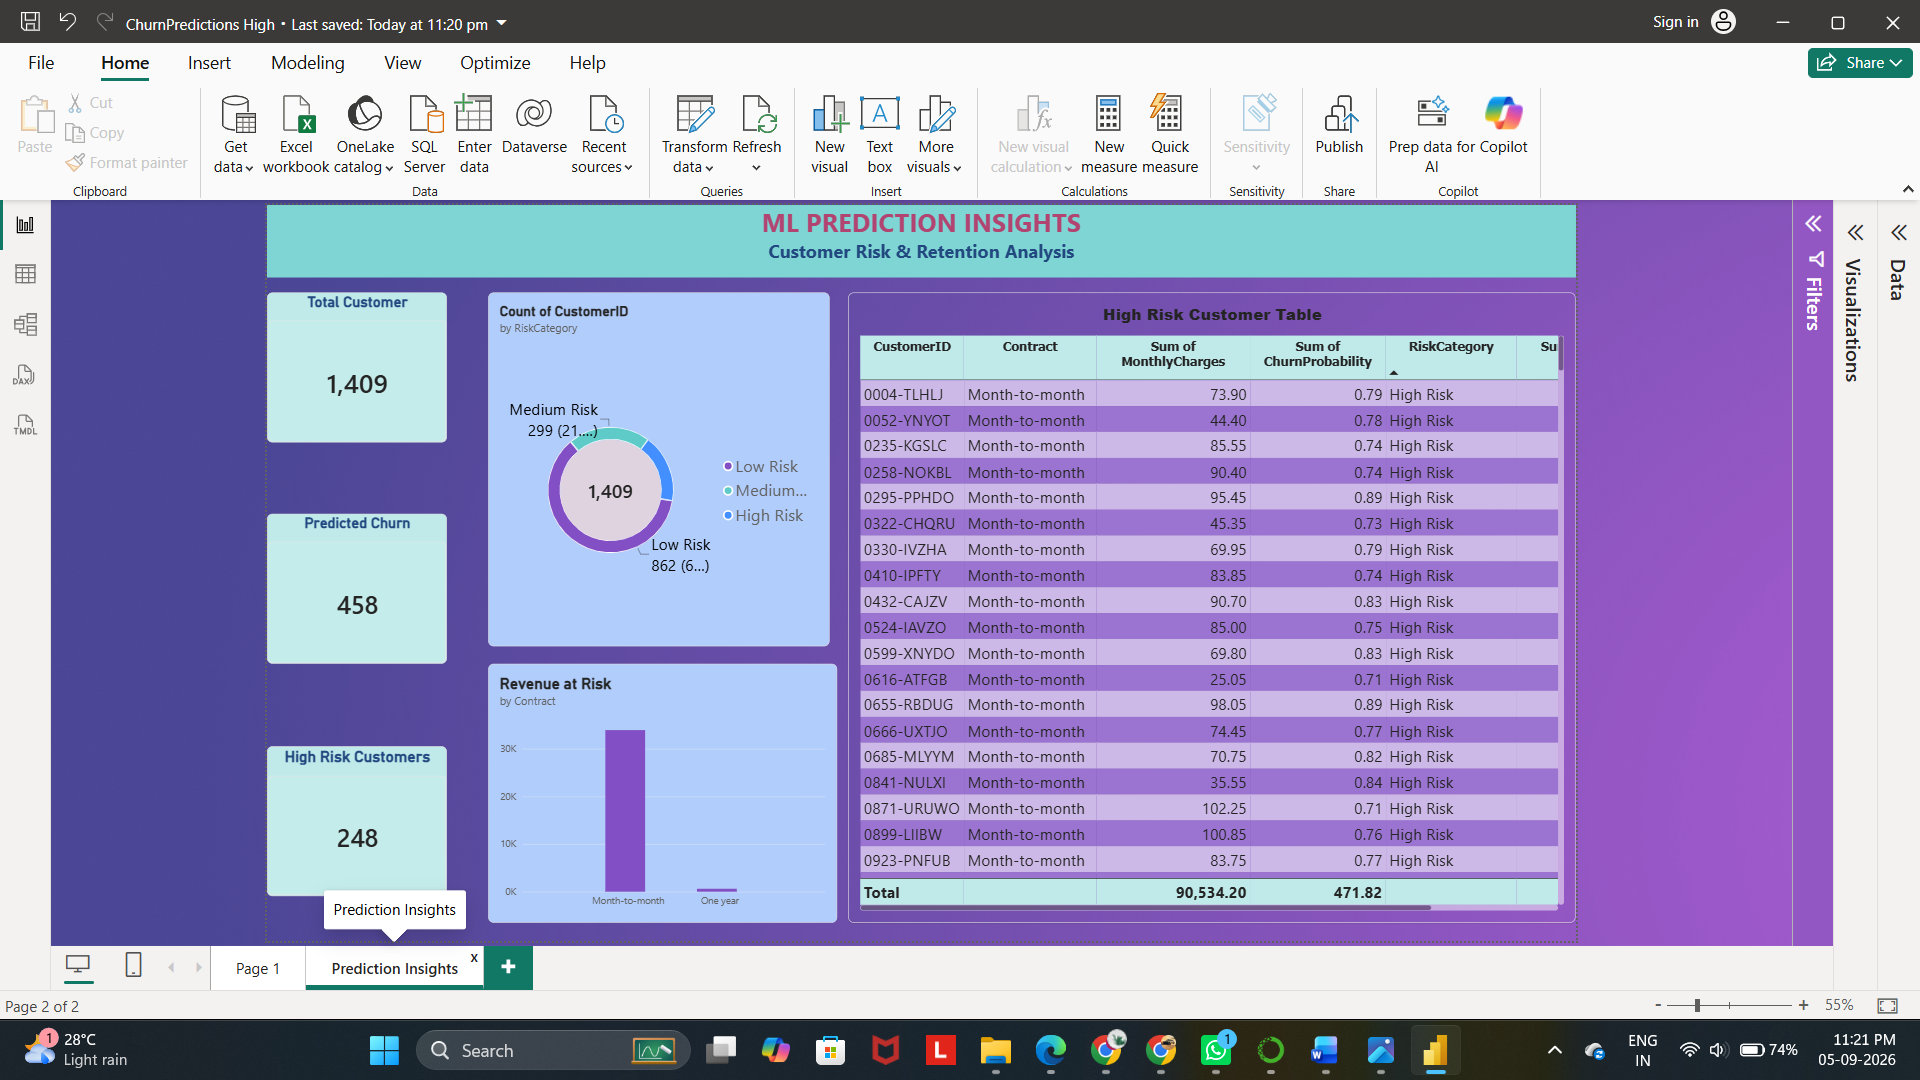

What the dashboard file says about the page in this screenshot:
{"tool":"powerbi","page":{"name":"Prediction Insights","canvas":[1920,1080],"ordinal":1},"visuals":[{"type":"tableEx","title":"High Risk Customer Table","fields":{"Values":["ChurnPredictions.CustomerID","ChurnPredictions.Contract","Sum(ChurnPredictions.MonthlyCharges)","Sum(ChurnPredictions.ChurnProbability)","ChurnPredictions.RiskCategory","Sum(ChurnPredictions.PredictedChurn)"]},"box":[849.3,128.4,1071.2,952],"z":0},{"type":"textbox","box":[0,0,1920.5,106.4],"z":1000},{"type":"cardVisual","title":"Predicted Churn","fields":{"Data":["Sum(ChurnPredictions.PredictedChurn)"]},"box":[0,453.1,264.1,220.1],"z":2000},{"type":"cardVisual","title":"High Risk Customers","fields":{"Data":["ChurnPredictions.High Risk Customer Count"]},"box":[0,768.6,264.1,220.1],"z":3000},{"type":"cardVisual","title":"Total Customer ","fields":{"Data":["ChurnPredictions.Total Customers Display"]},"box":[0,128.4,264.1,220.1],"z":4000},{"type":"columnChart","fields":{"Category":["ChurnPredictions.Contract"],"Y":["ChurnPredictions.Revenue at Risk"]},"box":[313.7,673.2,511.8,379.7],"z":5000},{"type":"donutChart","fields":{"Category":["ChurnPredictions.RiskCategory"],"Y":["CountNonNull(ChurnPredictions.CustomerID)"]},"box":[324.7,128.4,500.7,519.1],"z":6000}]}

Visuals, with their boxes on the page's 1920x1080 design canvas (x1, y1, x2, y2). These are canvas units, not pixel positions in the 1920x1080 screenshot, which may show the page scaled, cropped or inside an application window:
"High Risk Customer Table" tableEx: (left=849, top=128, right=1920, bottom=1080)
textbox: (left=0, top=0, right=1920, bottom=106)
"Predicted Churn" cardVisual: (left=0, top=453, right=264, bottom=673)
"High Risk Customers" cardVisual: (left=0, top=769, right=264, bottom=989)
"Total Customer " cardVisual: (left=0, top=128, right=264, bottom=348)
columnChart - ChurnPredictions.Contract x ChurnPredictions.Revenue at Risk: (left=314, top=673, right=826, bottom=1053)
donutChart - ChurnPredictions.RiskCategory x CountNonNull(ChurnPredictions.CustomerID): (left=325, top=128, right=825, bottom=648)
